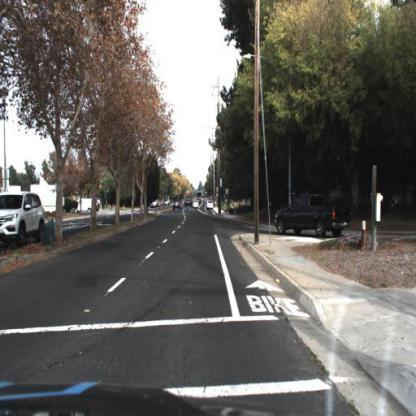car: (275, 194, 353, 238), (1, 191, 46, 251), (71, 195, 102, 214)
